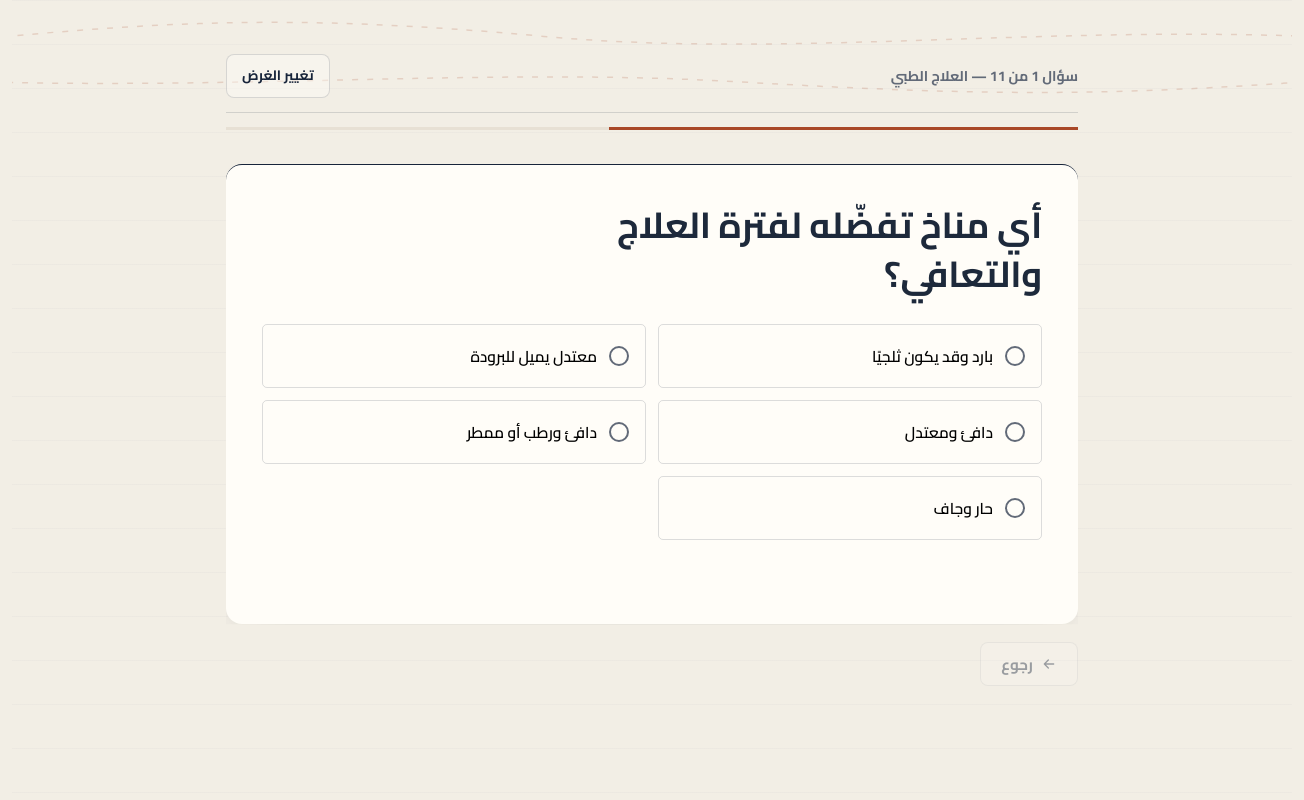
Scenario: geolocation/quiz race — the "no more questions" decision waits for a pending request › Arabic: the pending-location copy renders in Arabic
Click the radio button labelled "بارد وقد يكون ثلجيًا".
click(932, 356)  # box 658,324 -> 1042,388
Wait 150 ms
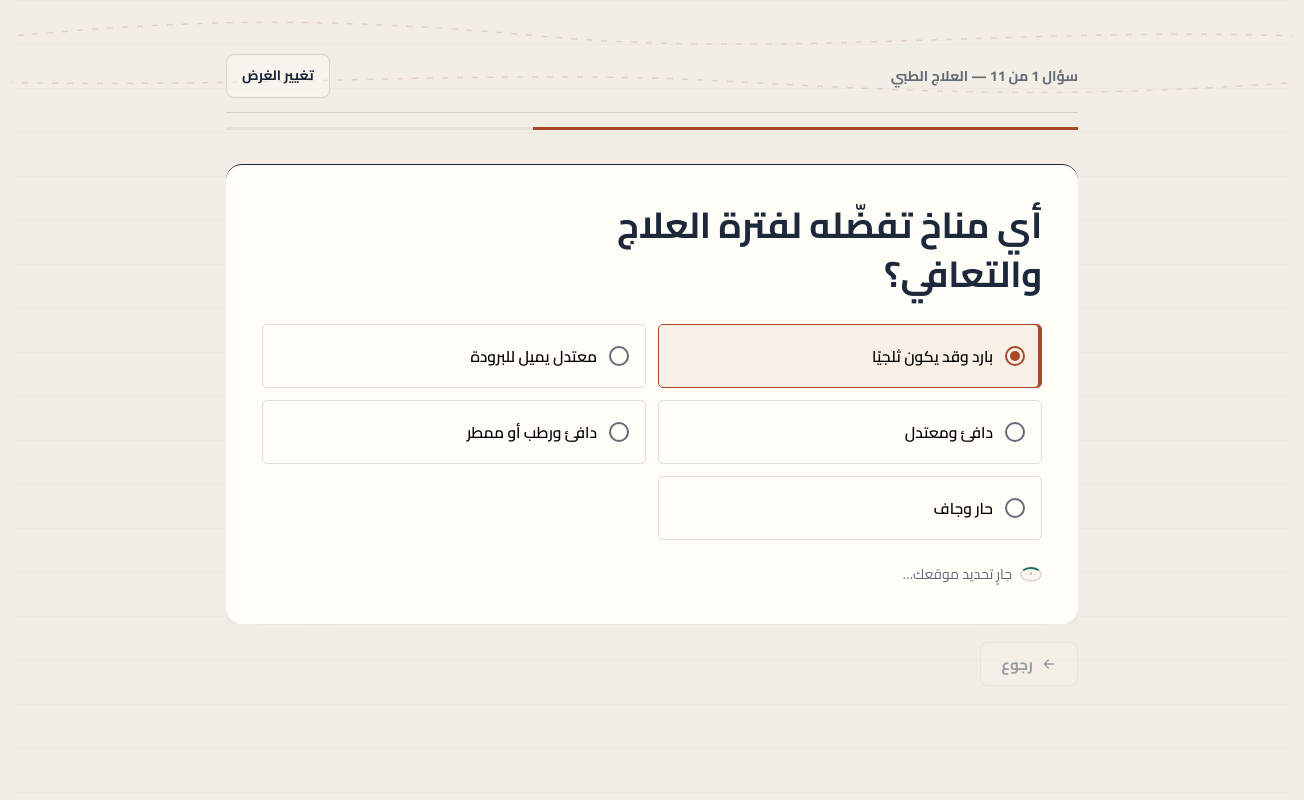
expect the text "جارٍ تحديد موقعك…" is shown: met, box 903,561 -> 1042,587
